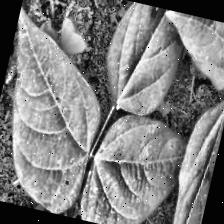ALS: (0, 0, 117, 211), (72, 101, 202, 224), (152, 9, 224, 92)
